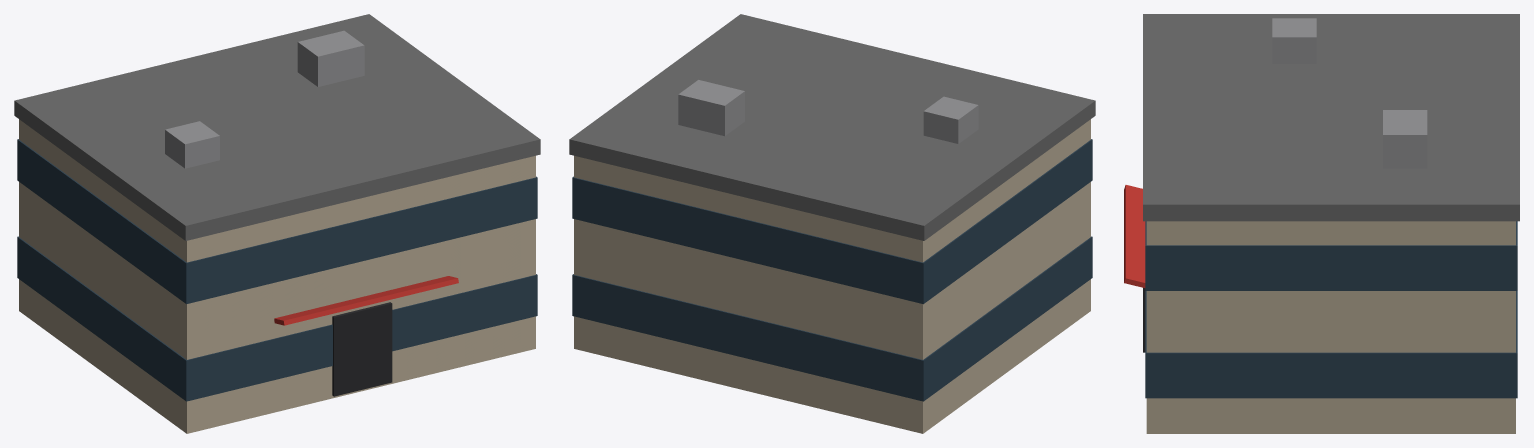
File: building_a.glb
The picture shows the model from 3 angles, left to right: view 1: azimuth 30°, elevation 25°; view 2: azimuth 150°, elevation 25°; view 3: azimuth 270°, elevation 25°; orthographic projection. The views are drawn at different scales.
Parts seen in each view (by area): view 1: Body; view 2: Body; view 3: Body.
Part boxes in pixels (bbox=[...]): Body: bbox=[14, 14, 540, 433]; Body: bbox=[569, 14, 1095, 433]; Body: bbox=[1124, 14, 1519, 433].
Bounding box in the file's own units: 12.2 × 7.9 × 10.71.
